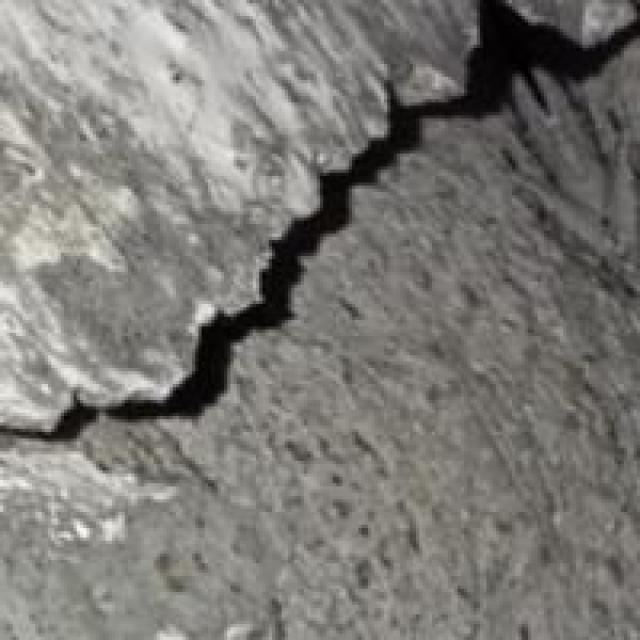crack: (10, 3, 627, 448)
